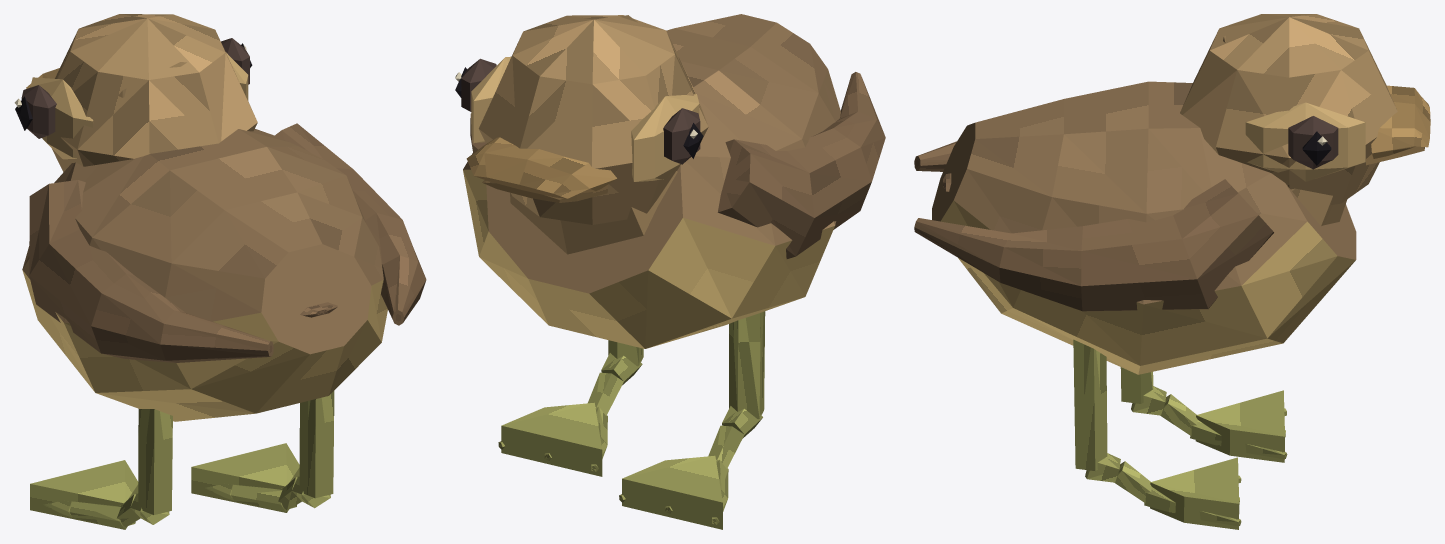
File: mon_moorhen_chick.glb
3 views of the same model, side by side, from view 1: azimuth 30°, elevation 25°; view 2: azimuth 150°, elevation 25°; view 3: azimuth 270°, elevation 25° (orthographic). The views are drawn at different scales.
Parts seen in each view (by area): view 1: closed_body; view 2: closed_body; view 3: closed_body.
Part boxes in pixels (x1,y1,x2,y2): closed_body: [14, 14, 426, 529]; closed_body: [455, 14, 885, 529]; closed_body: [914, 14, 1430, 529].
Bounding box in the file's own units: 0.0711 × 0.095 × 0.0972.
1 material, 1 textured.
